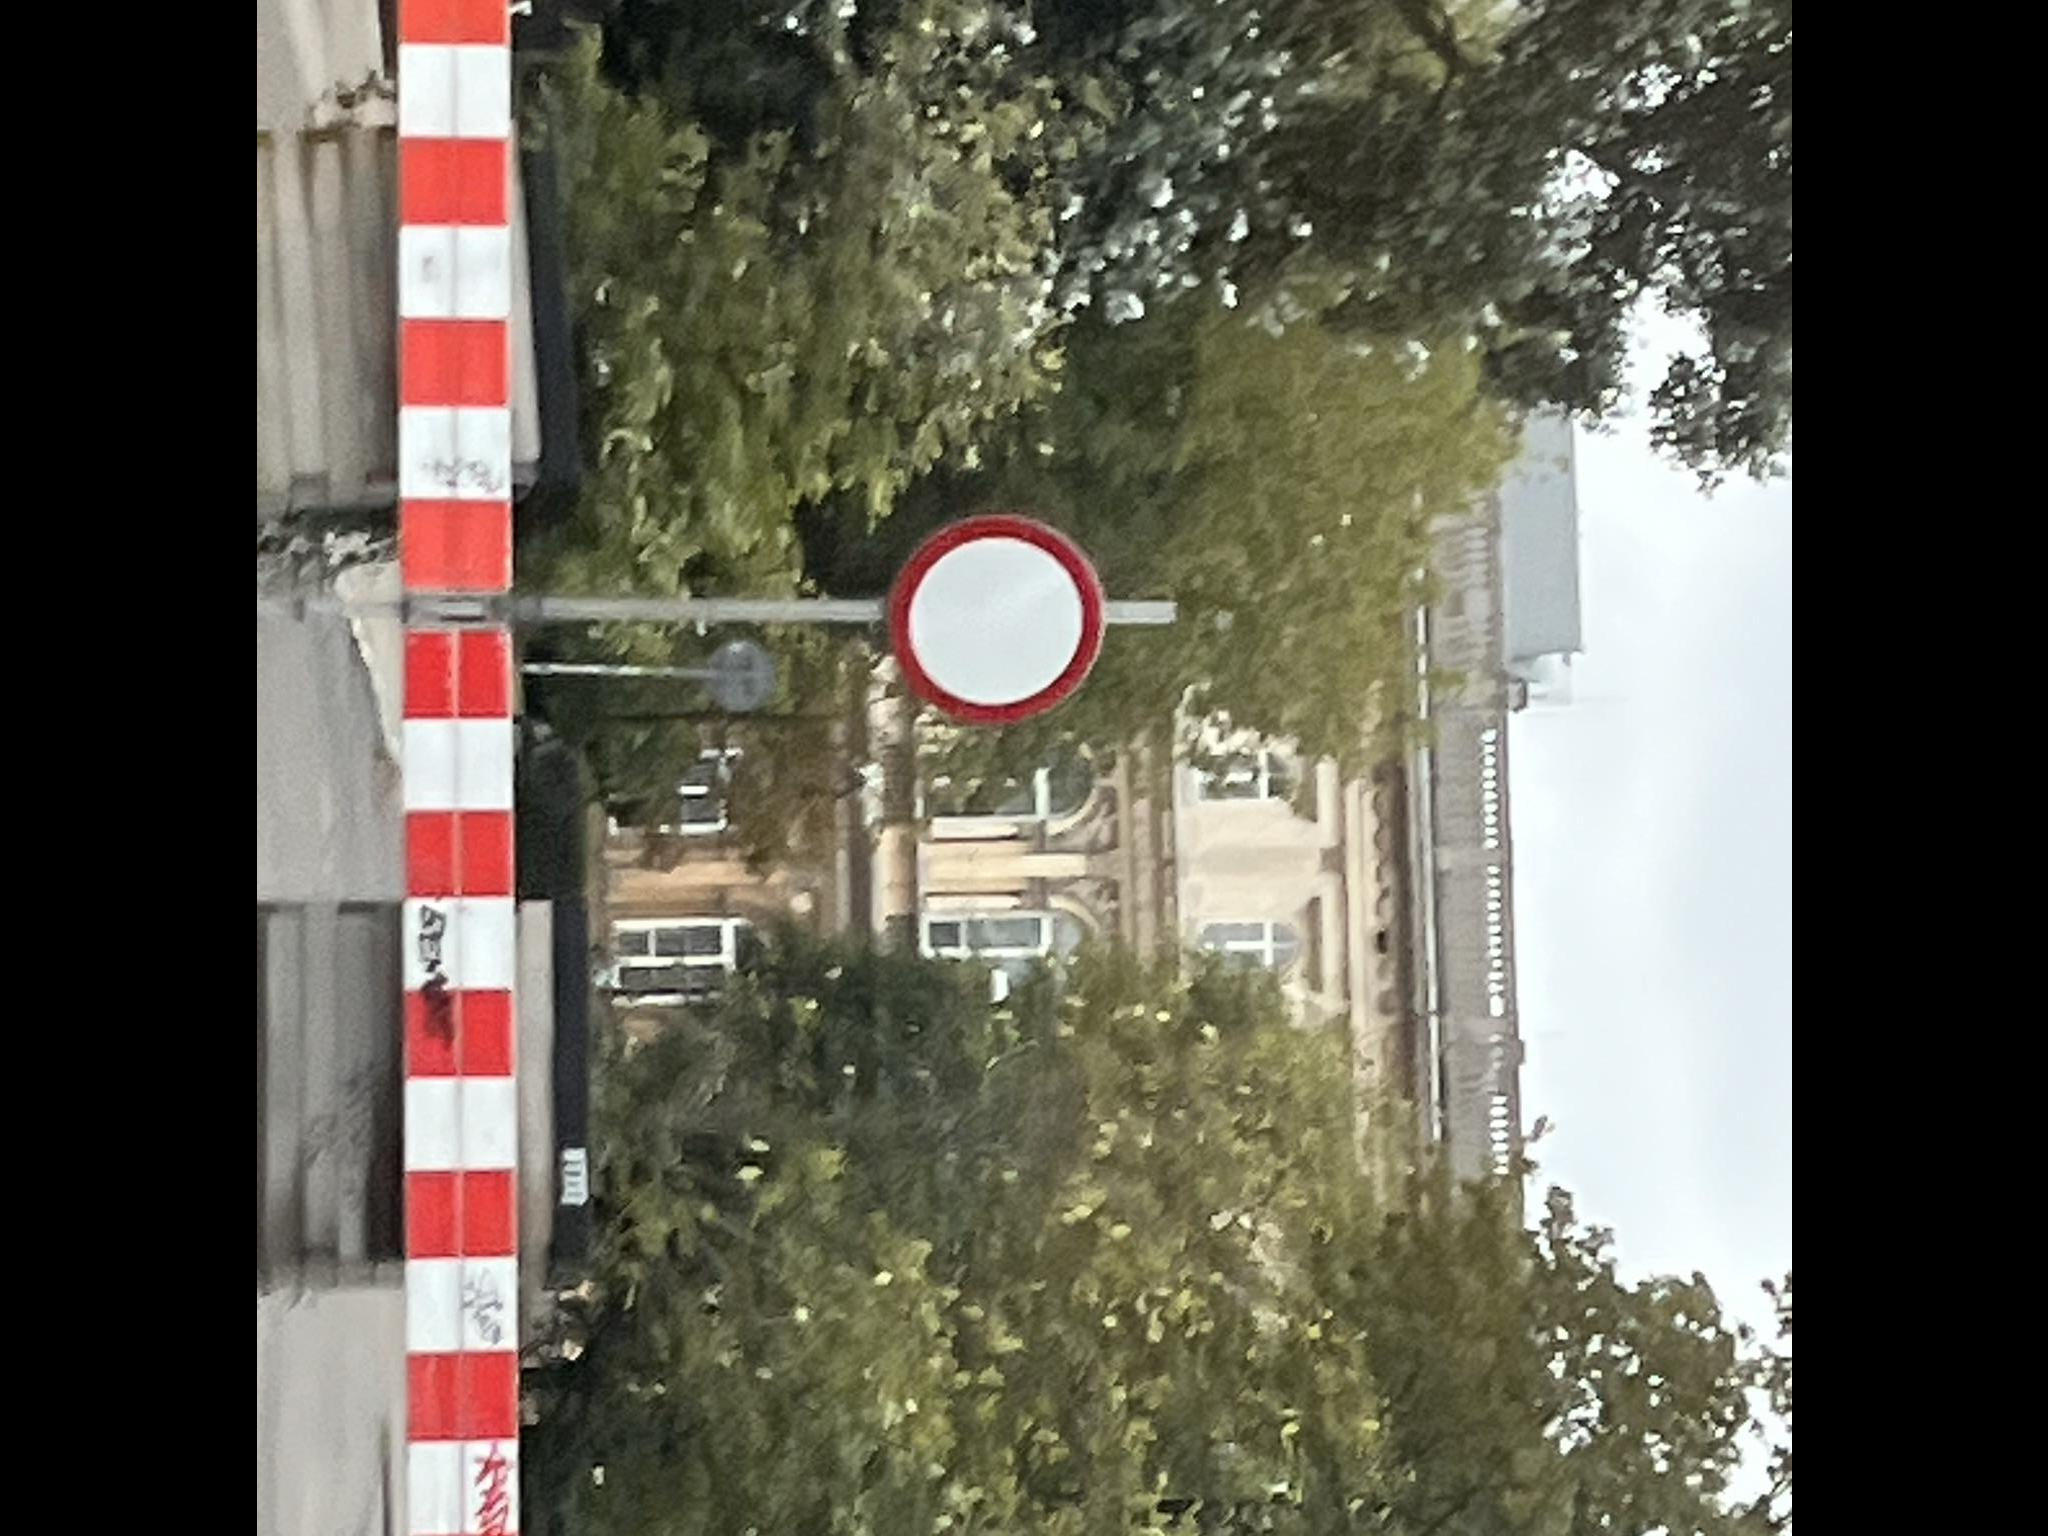prohibitory: (889, 515, 1106, 721)
